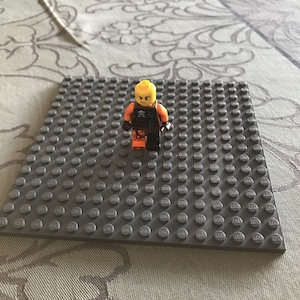Lego: (119, 79, 172, 151)
